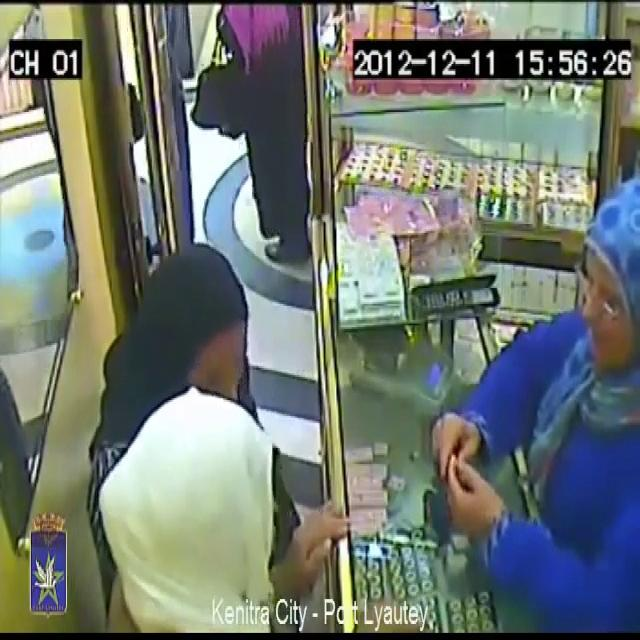Product: (438, 431, 464, 487)
normal: (105, 364, 323, 640), (184, 0, 322, 278), (163, 252, 268, 429)
shoplifting: (382, 144, 640, 627)
